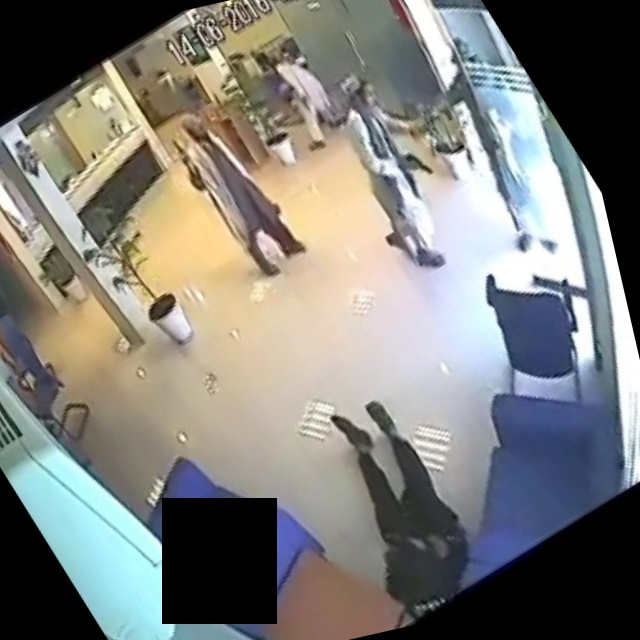gun: (395, 139, 434, 183), (164, 130, 188, 162)
